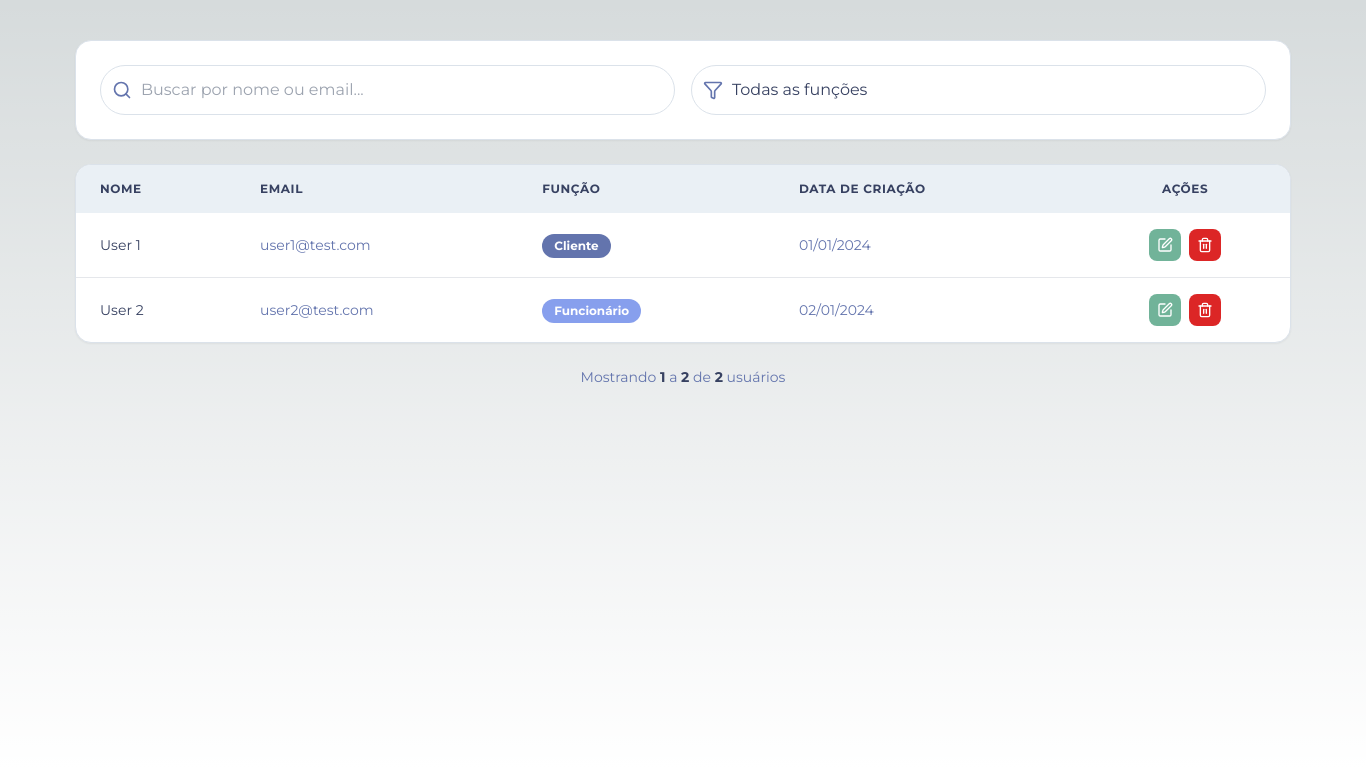
Test case: UserManagement › deve abrir modal de confirmação ao clicar em excluir
Check: the text "User 1" is shown, box [100,236,141,254]
Click the button titled "Excluir usuário" in the row of "User 1": coordinates (1205, 245) [1189,229,1221,261]
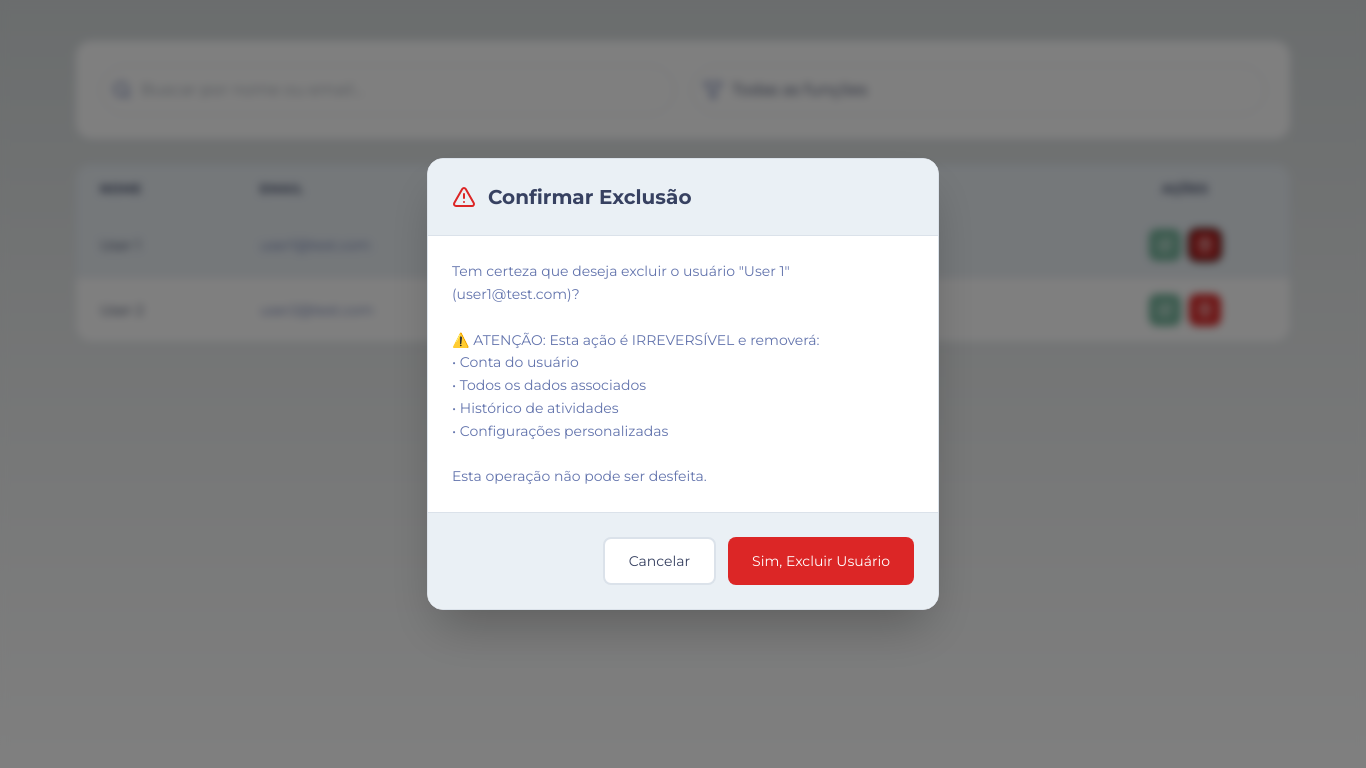
Check: the heading "Confirmar Exclusão" is shown, box [488,183,692,211]
Check: the text "Tem certeza que deseja excluir o usuário \"User 1\"" is shown, box [452,262,820,485]
